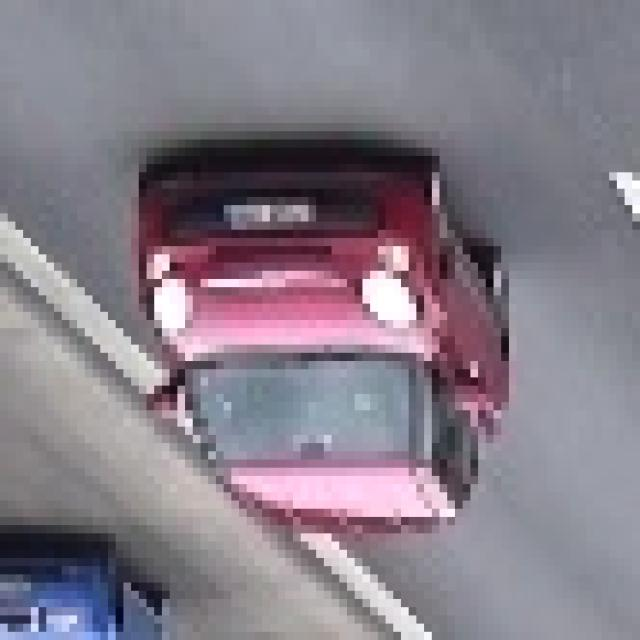maroon: (137, 153, 514, 527)
